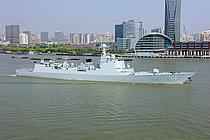MIL_Ship: (15, 39, 196, 86)
